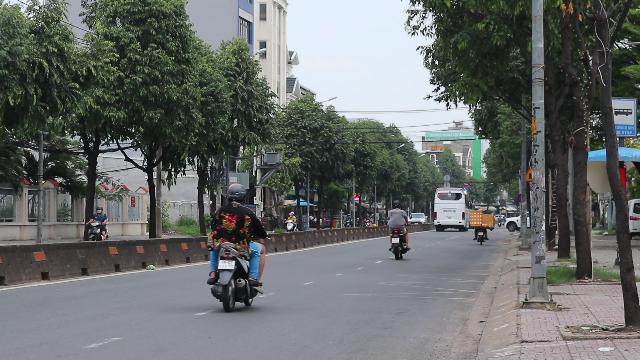helmet: (226, 183, 247, 203)
licenseplate: (218, 261, 234, 270)
motorcyclist: (205, 182, 268, 310)
